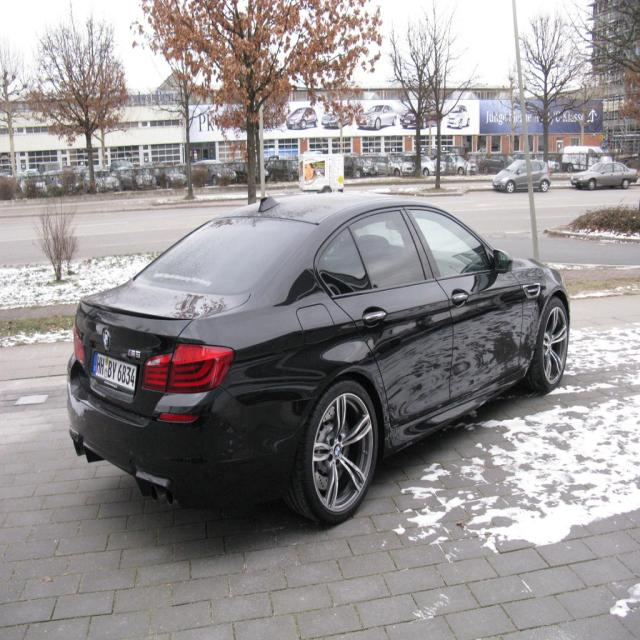car: (64, 192, 570, 525)
